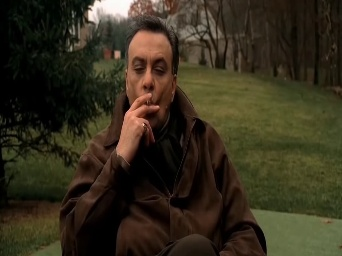smoke: (144, 97, 153, 107)
